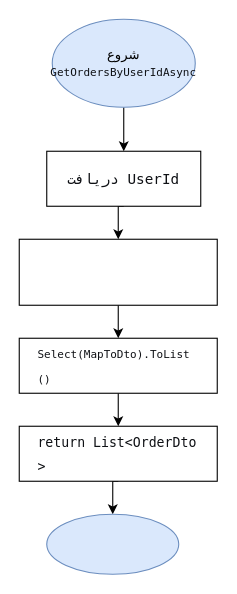
The diagram is 237 pixels wide and 594 high, and some of its shapes have lost their labels. The centre of each missing label's shape, as x and y in pixels:
"FindAsync(o => o.UserId == userId)" belongs at point 117,271.
"پایان" belongs at point 112,543.
